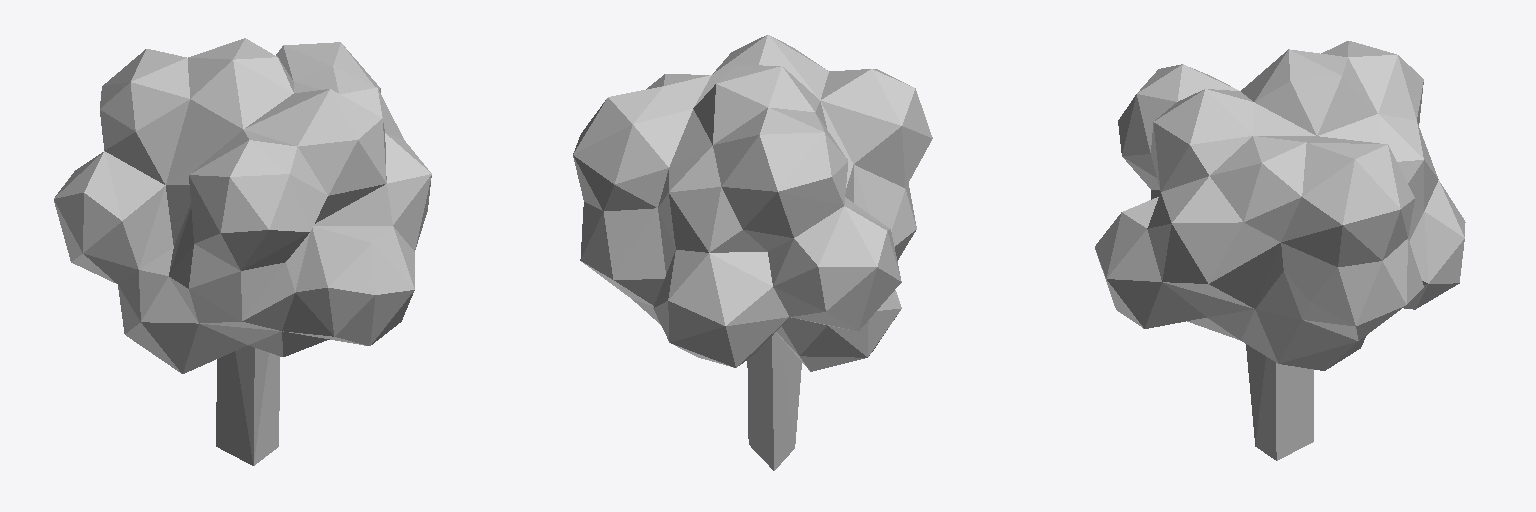
File: tree6.obj
The picture shows the model from 3 angles: view 1: azimuth 30°, elevation 25°; view 2: azimuth 150°, elevation 25°; view 3: azimuth 270°, elevation 25°; orthographic projection.
Parts seen in each view (by area): view 1: Tree8.005; view 2: Tree8.005; view 3: Tree8.005.
Boxes of the visible parts, x1,y1,x2,y2 form: Tree8.005: [54, 38, 431, 465]; Tree8.005: [573, 35, 932, 470]; Tree8.005: [1095, 41, 1465, 460].
Bounding box in the file's own units: 2.11 × 2.55 × 2.17.